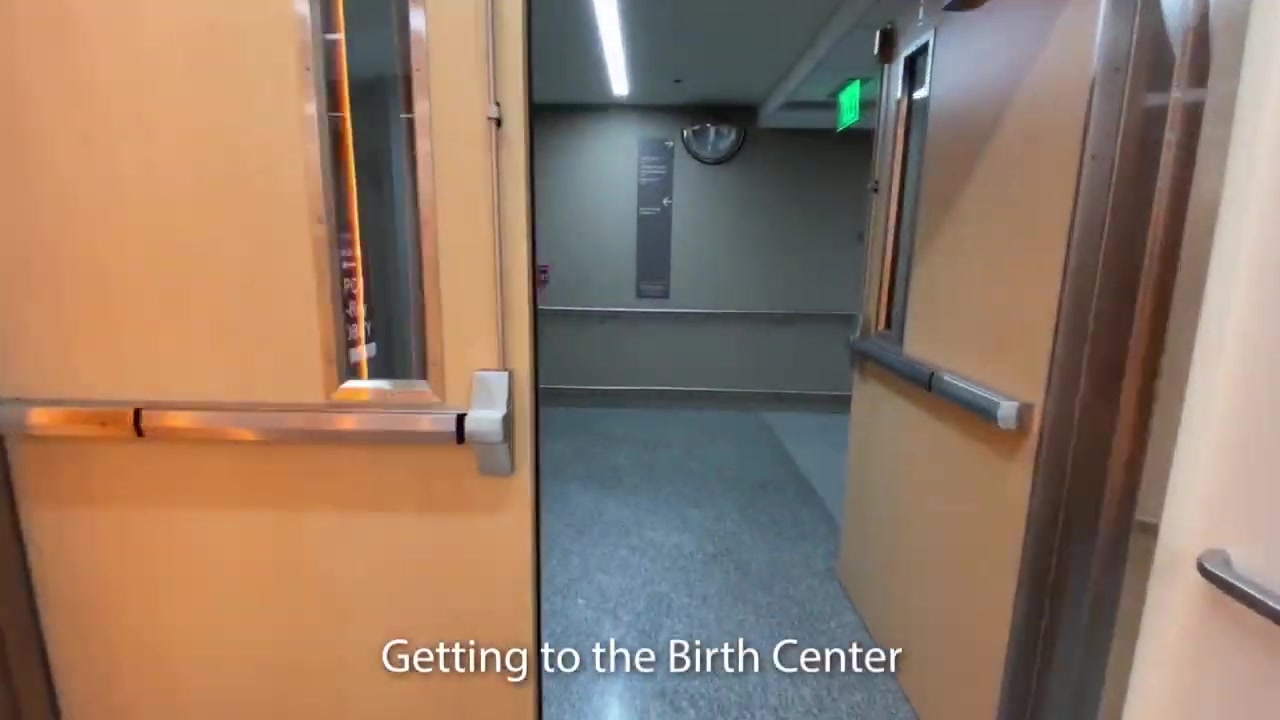hallway_assist_bar: (538, 303, 859, 320)
push_latch: (1, 364, 514, 477), (848, 333, 1030, 429)
